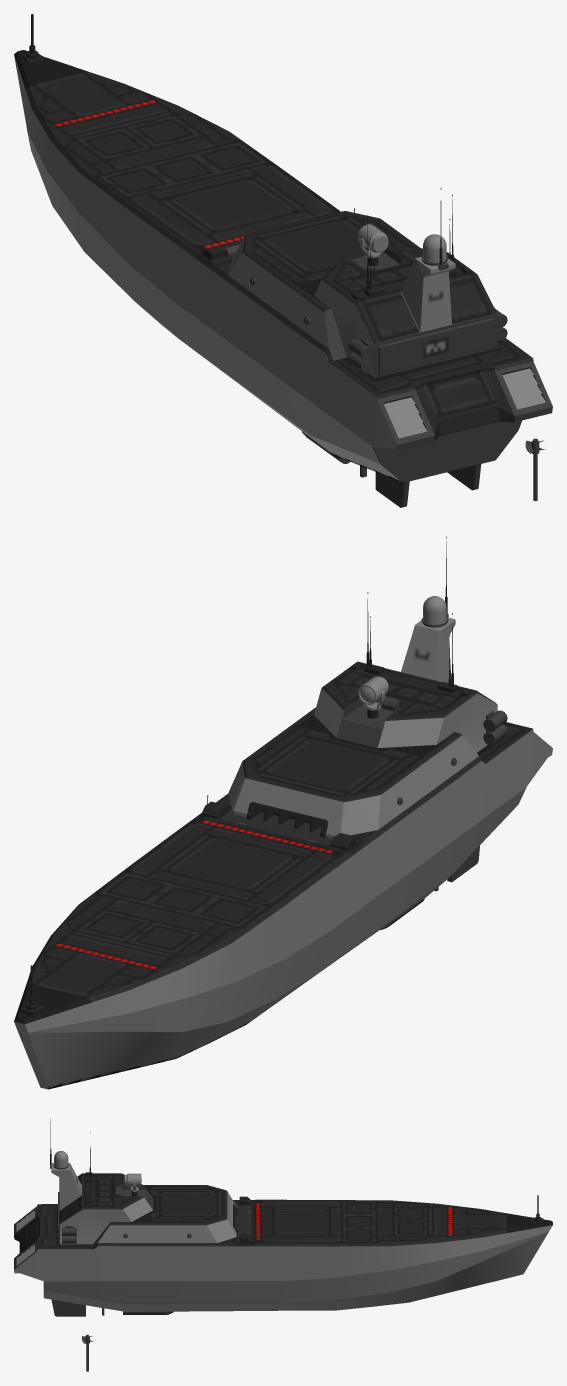
The model's file is small_navy_ship.fbx.
The picture shows the model from 3 angles, top to bottom: view 1: azimuth 30°, elevation 25°; view 2: azimuth 150°, elevation 25°; view 3: azimuth 270°, elevation 25°; orthographic projection. The views are drawn at different scales.
Parts seen in each view (by area): view 1: small_navy_boat; view 2: small_navy_boat; view 3: small_navy_boat.
Part boxes in pixels (left/top/right/bottom): small_navy_boat: left=14, top=14, right=552, bottom=507; small_navy_boat: left=14, top=536, right=552, bottom=1089; small_navy_boat: left=14, top=1118, right=552, bottom=1316.
Bounding box in the file's own units: 1193 × 1984 × 4474.
Materials: 2 (1 with a texture image).
